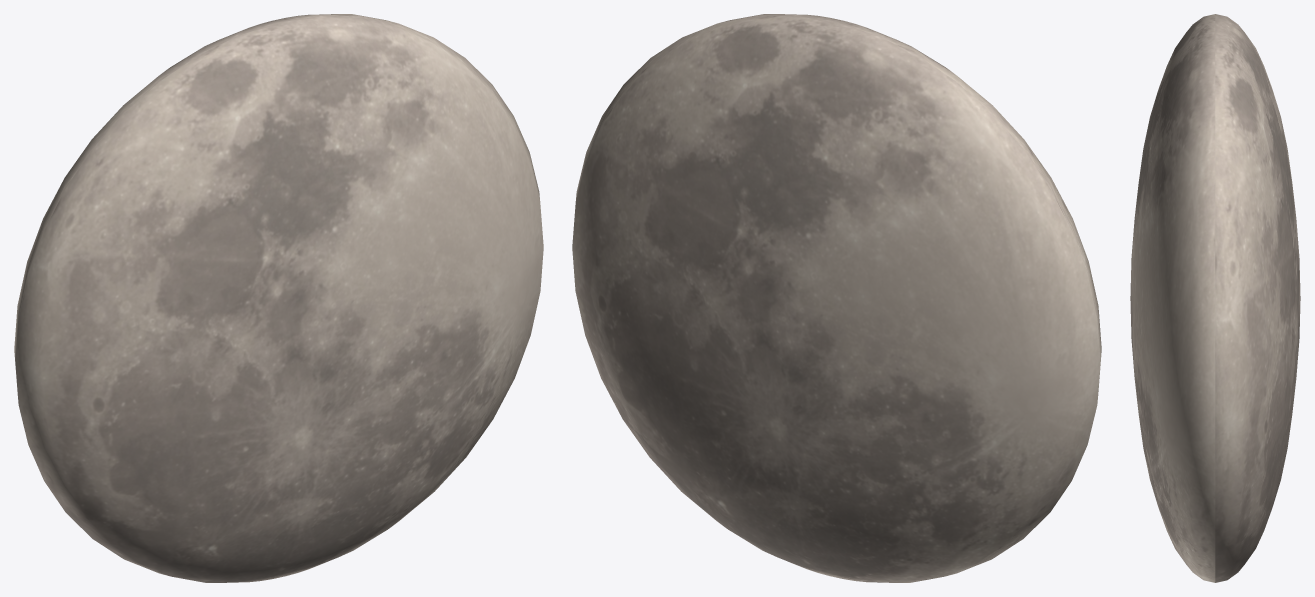
The model's file is SM_MoonPhase5_FullMoon.fbx.
3 views of the same model, side by side, from view 1: azimuth 30°, elevation 25°; view 2: azimuth 150°, elevation 25°; view 3: azimuth 270°, elevation 25° (orthographic). The views are drawn at different scales.
Visible parts, largest first — view 1: pSphere4; view 2: pSphere4; view 3: pSphere4.
Boxes of the visible parts, x1,y1,x2,y2 form: pSphere4: (14,14,543,582); pSphere4: (572,14,1101,582); pSphere4: (1130,14,1300,582).
Size of the model in its own units: 158 by 158 by 47.13.
